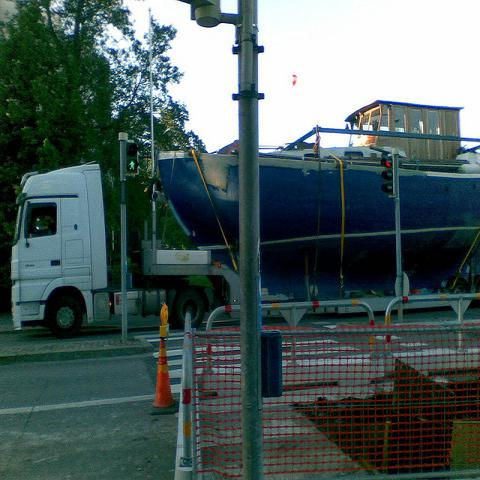truck: (9, 165, 460, 340)
